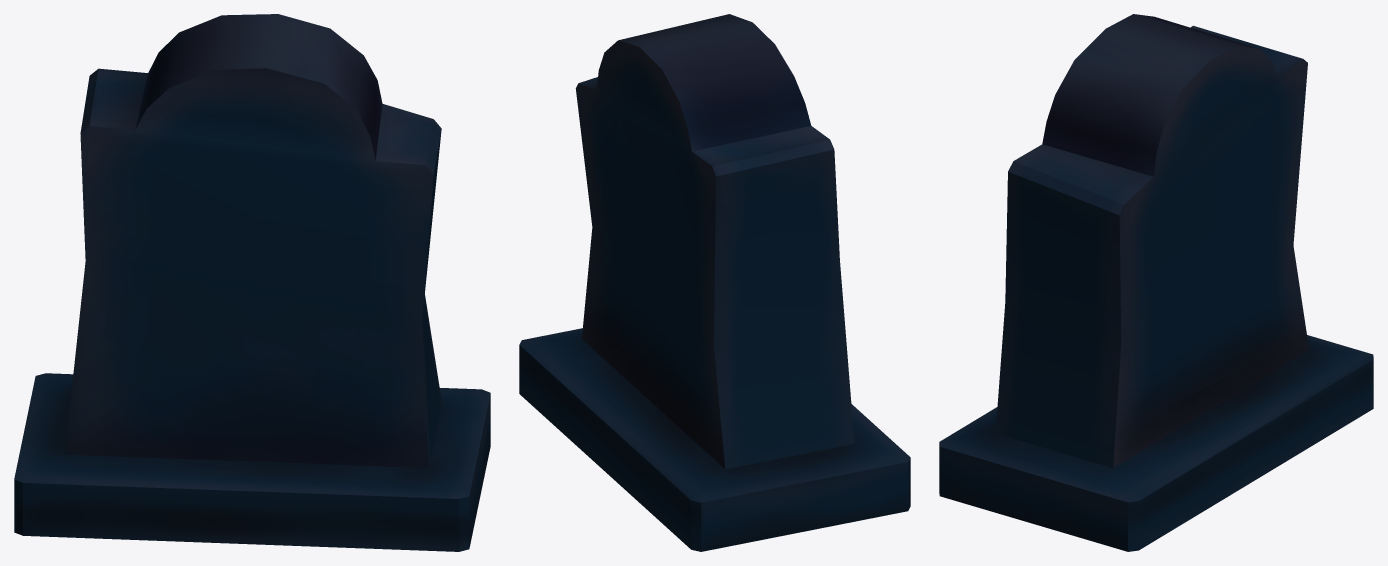
Rendered from gravestone03.FBX.
3 renders of one model, left to right at view 1: azimuth 30°, elevation 25°; view 2: azimuth 150°, elevation 25°; view 3: azimuth 270°, elevation 25°, orthographic. The views are drawn at different scales.
Visible parts, largest first — view 1: gravestone03; view 2: gravestone03; view 3: gravestone03.
Boxes of the visible parts, x1,y1,x2,y2 form: gravestone03: [14, 14, 490, 551]; gravestone03: [519, 14, 910, 551]; gravestone03: [939, 14, 1373, 551].
Bounding box in the file's own units: 16.39 × 15.58 × 14.77.
